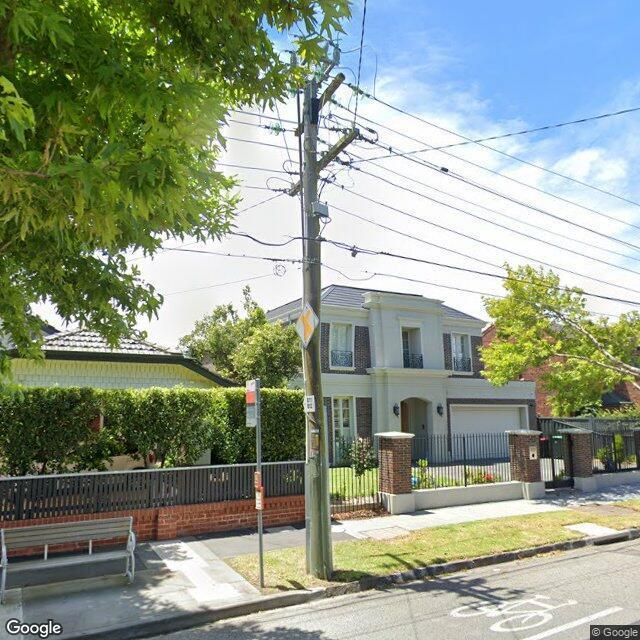HV-switch: (290, 38, 341, 68)
HV-transmission: (264, 71, 370, 137)
crossarm: (289, 128, 359, 197), (294, 72, 346, 136)
timber-pole: (303, 80, 333, 580)
